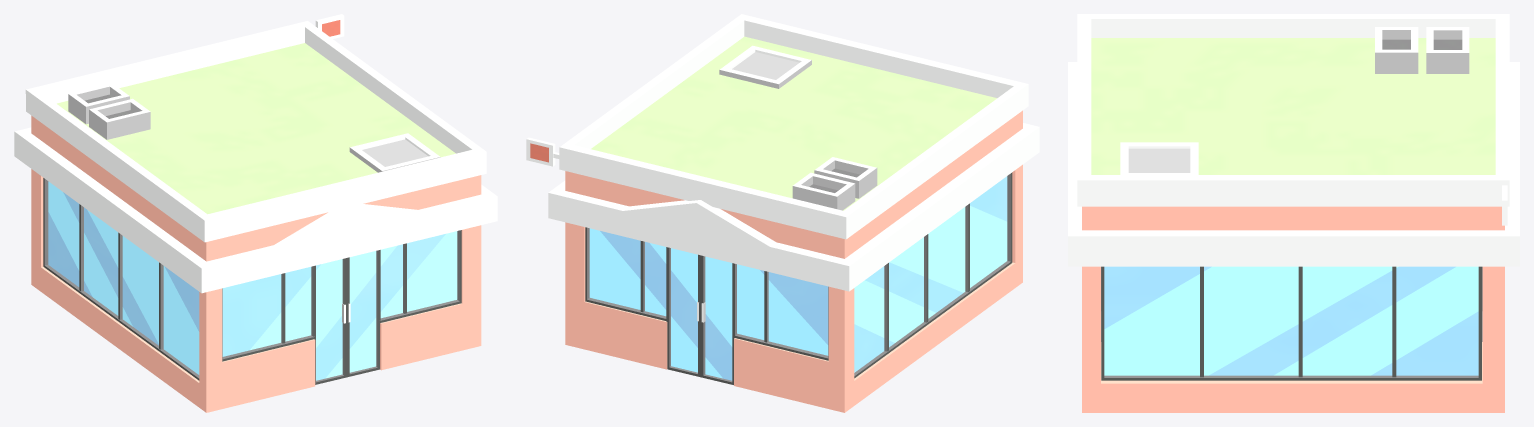
File: snack.009.glb
The picture shows the model from 3 angles, left to right: view 1: azimuth 30°, elevation 25°; view 2: azimuth 150°, elevation 25°; view 3: azimuth 270°, elevation 25°; orthographic projection. The views are drawn at different scales.
Visible parts, largest first — view 1: snack.009(Clone); view 2: snack.009(Clone); view 3: snack.009(Clone).
Boxes of the visible parts, x1,y1,x2,y2 form: snack.009(Clone): (14, 14, 497, 412); snack.009(Clone): (526, 14, 1039, 412); snack.009(Clone): (1068, 14, 1519, 412).
Bounding box in the file's own units: 5.94 × 3.46 × 5.97.
1 material, 1 textured.
